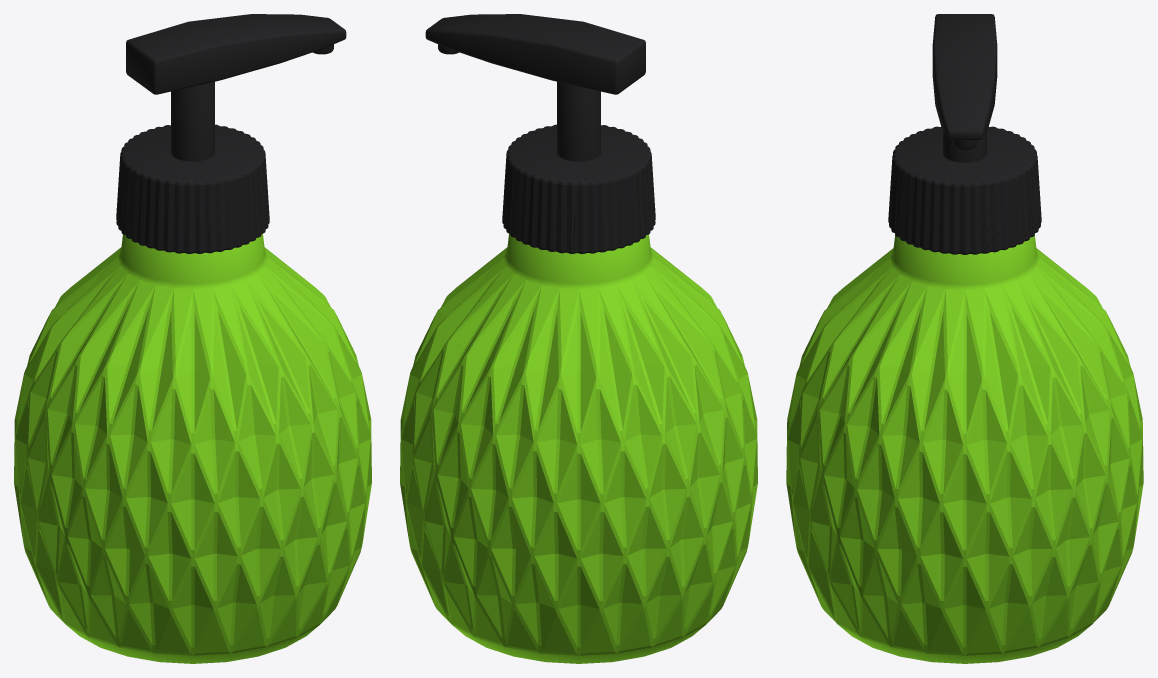
File: limex-bottle-green.glb
3 views of the same model, side by side, from view 1: azimuth 30°, elevation 25°; view 2: azimuth 150°, elevation 25°; view 3: azimuth 270°, elevation 25° (orthographic).
Visible parts, largest first — view 1: LimexBottleGreen; view 2: LimexBottleGreen; view 3: LimexBottleGreen.
Boxes of the visible parts, bbox=[...] form: LimexBottleGreen: bbox=[14, 14, 371, 663]; LimexBottleGreen: bbox=[400, 14, 757, 663]; LimexBottleGreen: bbox=[786, 14, 1143, 663].
Bounding box in the file's own units: 0.1106 × 0.1959 × 0.1106.
1 material, 1 textured.
